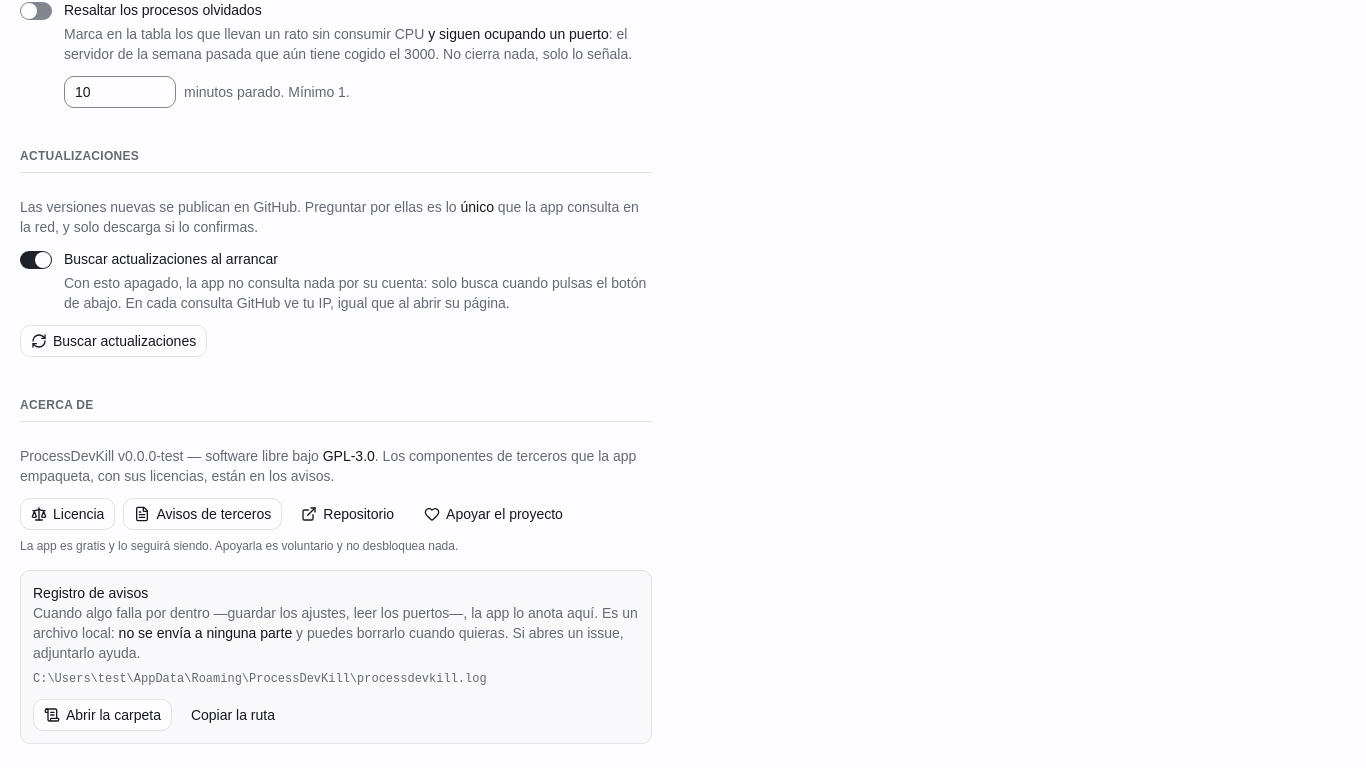
Test case: cuando Windows no deja abrir o copiar algo › la licencia y los avisos de terceros
(page scrolled)
Click the button "Licencia" at {"x": 68, "y": 514}, box [20,498,115,530]
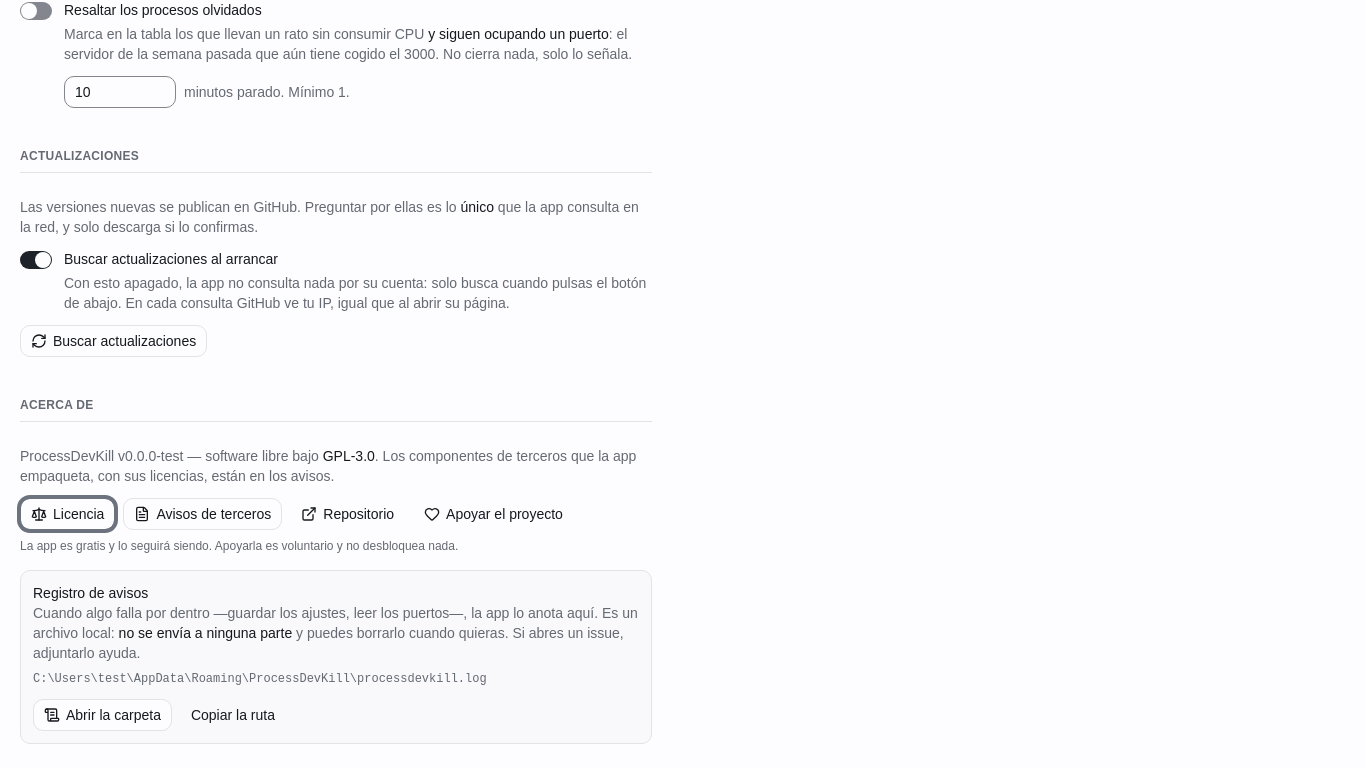
Click the button "Avisos de terceros" at {"x": 203, "y": 514}, box [123,498,282,530]
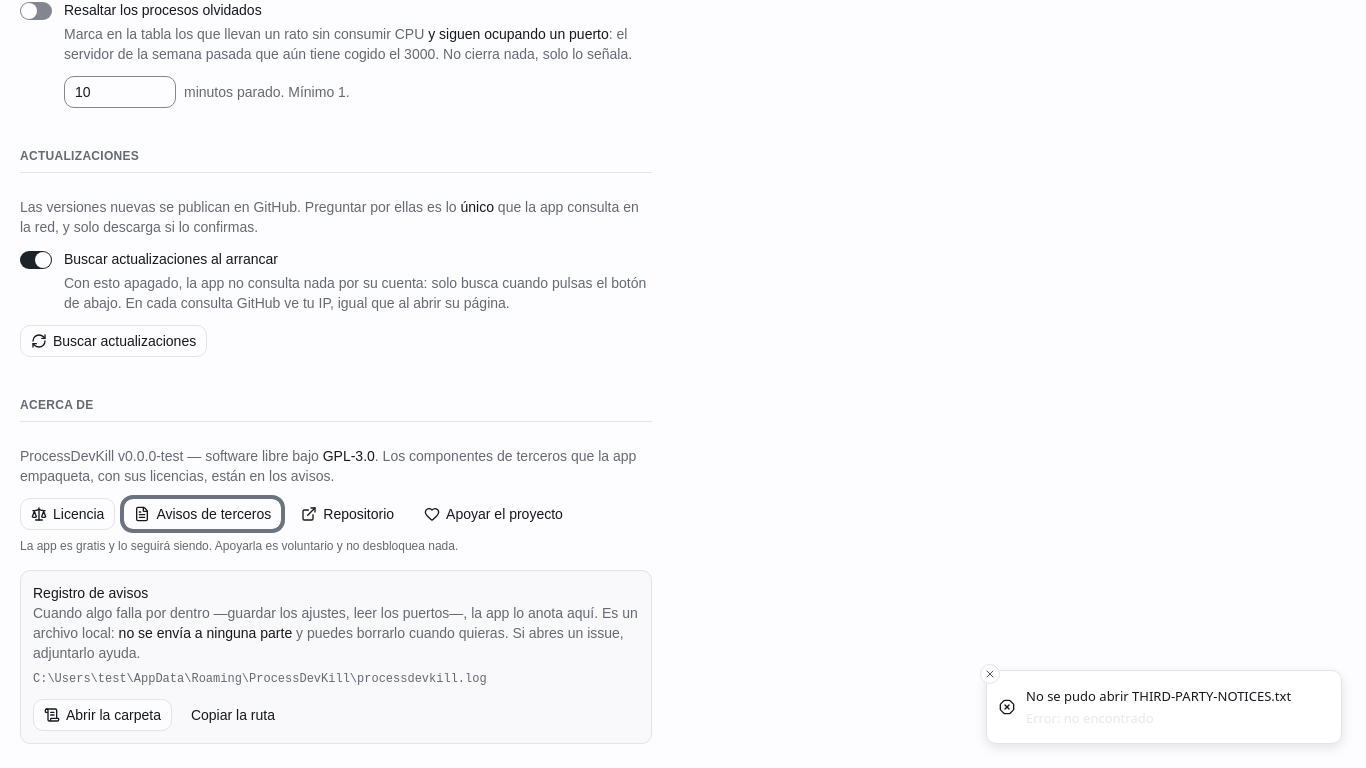
expect the text "No se pudo abrir THIRD-PARTY-NOTICES.txt" is shown: met, box [1026,687,1291,707]
